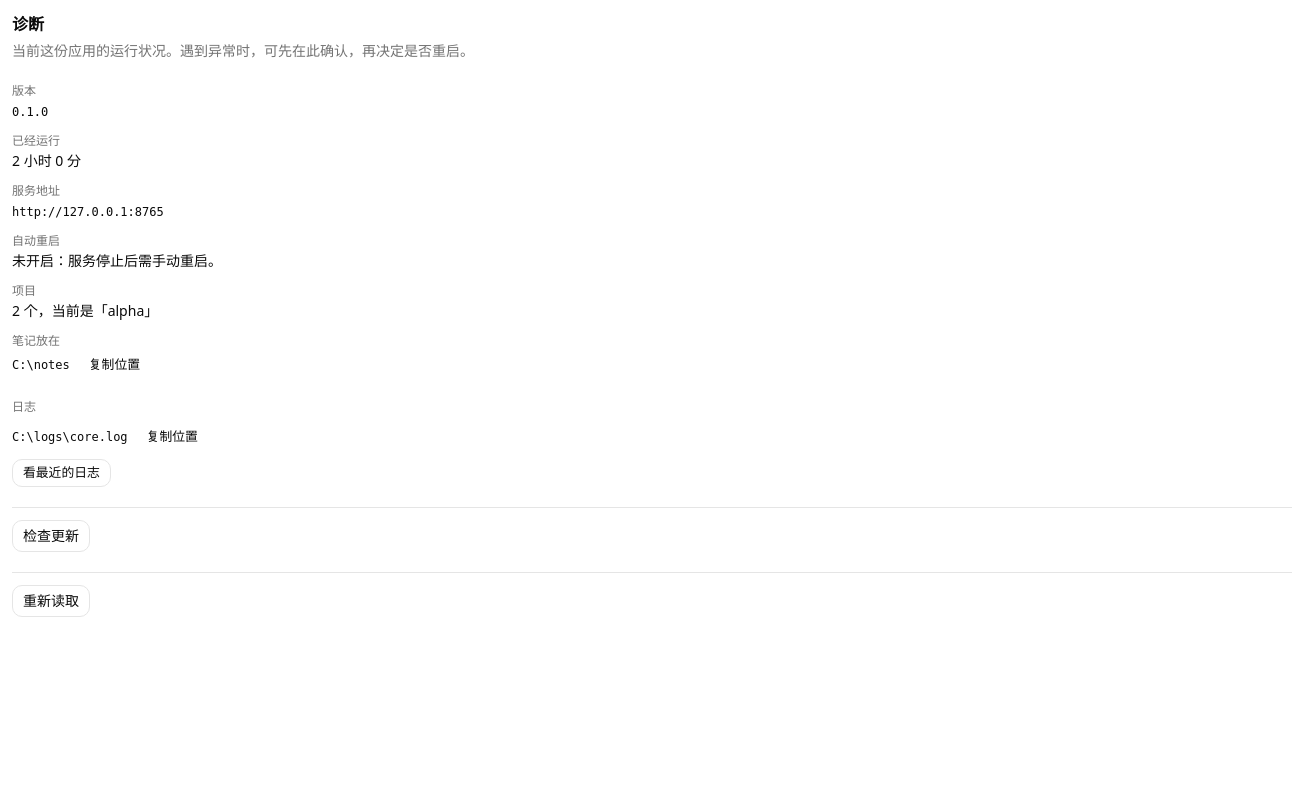
what this copy of the app says about itself › shows the end of the log once, and hides it again without asking twice
The width and height of the screenshot is (1292, 812).
Step 1. Click the button "看最近的日志" → (61, 473), box 12,459 -> 111,487
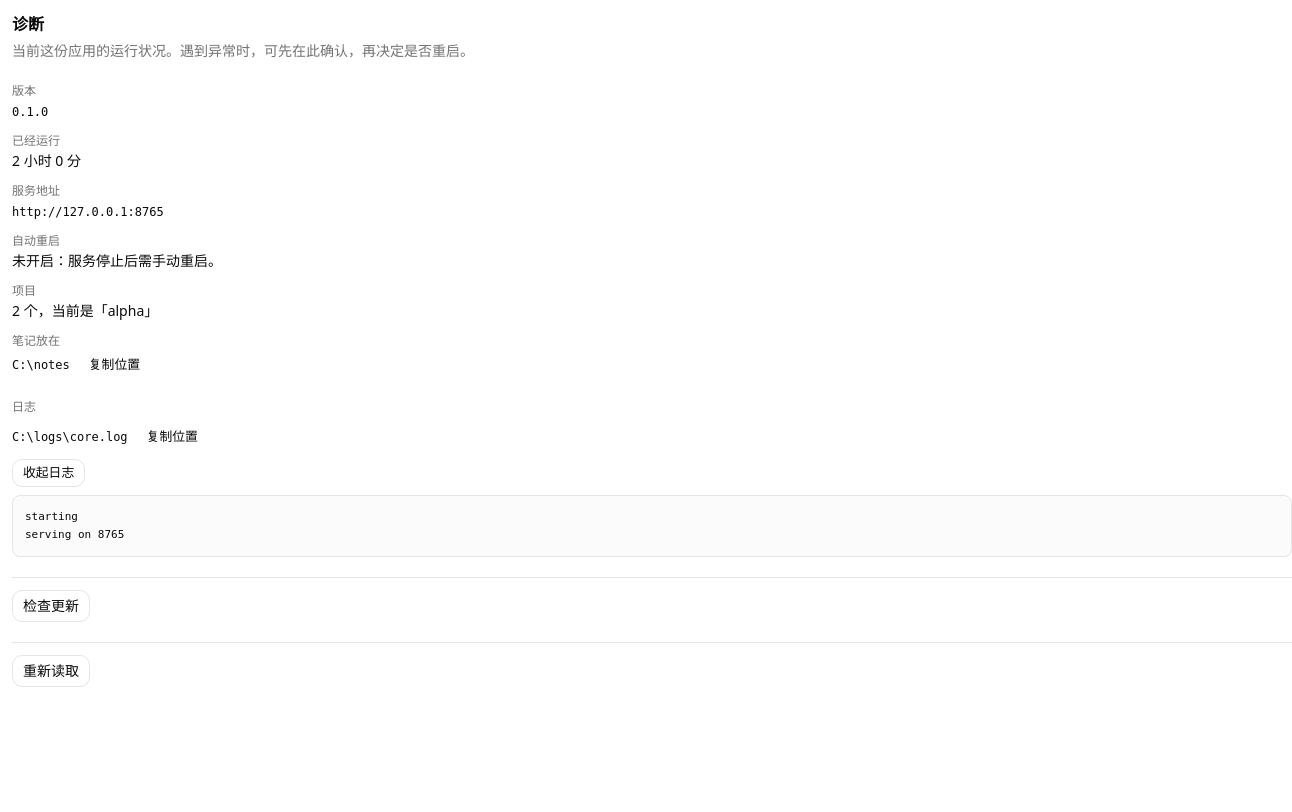
Result: the text "starting serving on 8765" is shown at 12,495 -> 1291,557
Step 2. Click the button "收起日志" → (49, 473), box 12,459 -> 85,487
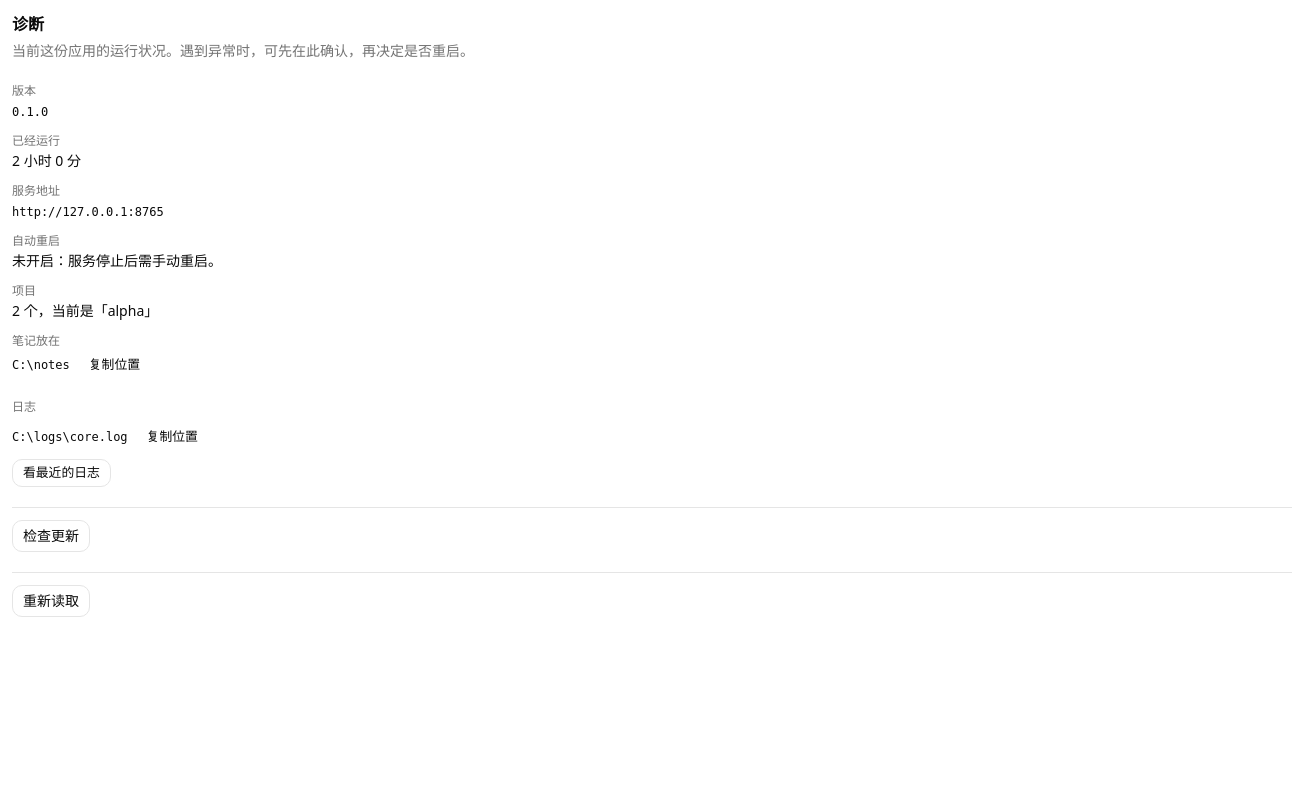
Step 3. Click the button "看最近的日志" → (61, 473), box 12,459 -> 111,487
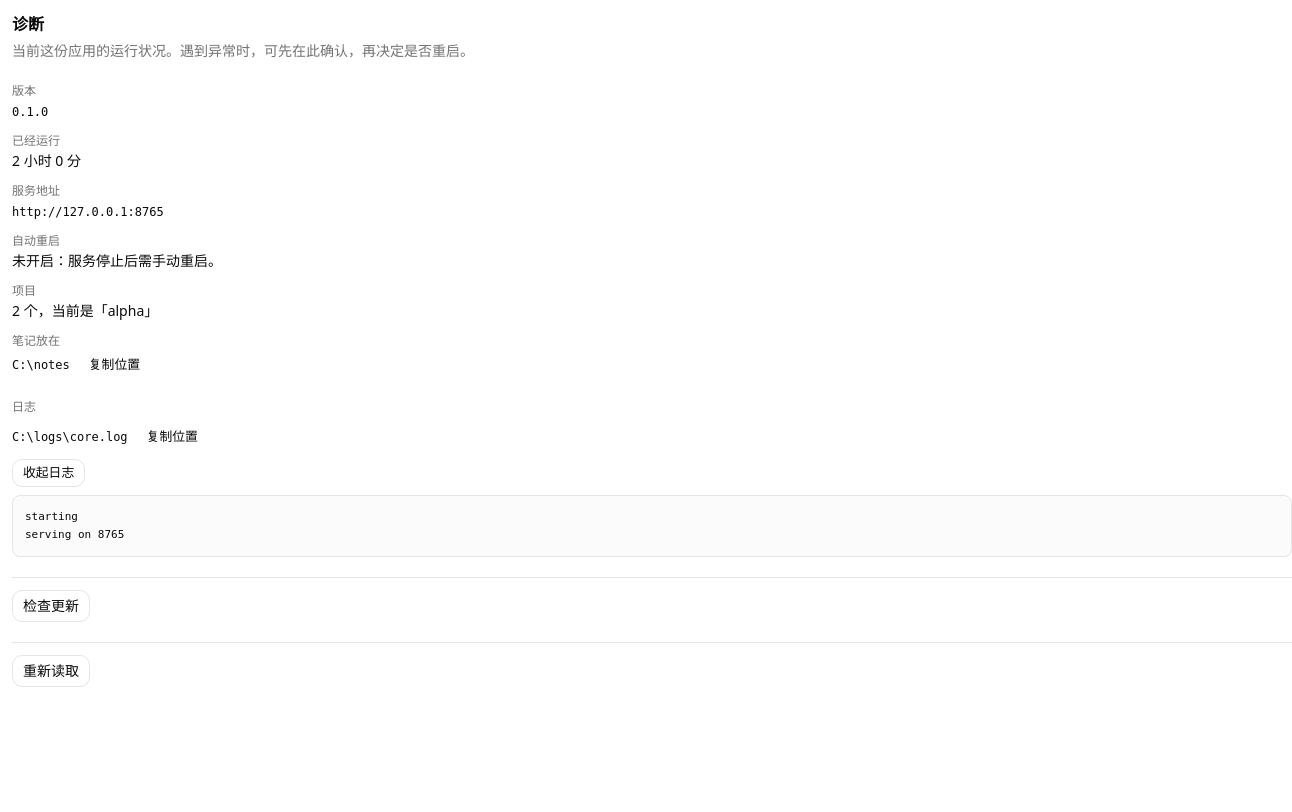
Result: the text "starting serving on 8765" is shown at 12,495 -> 1291,557
